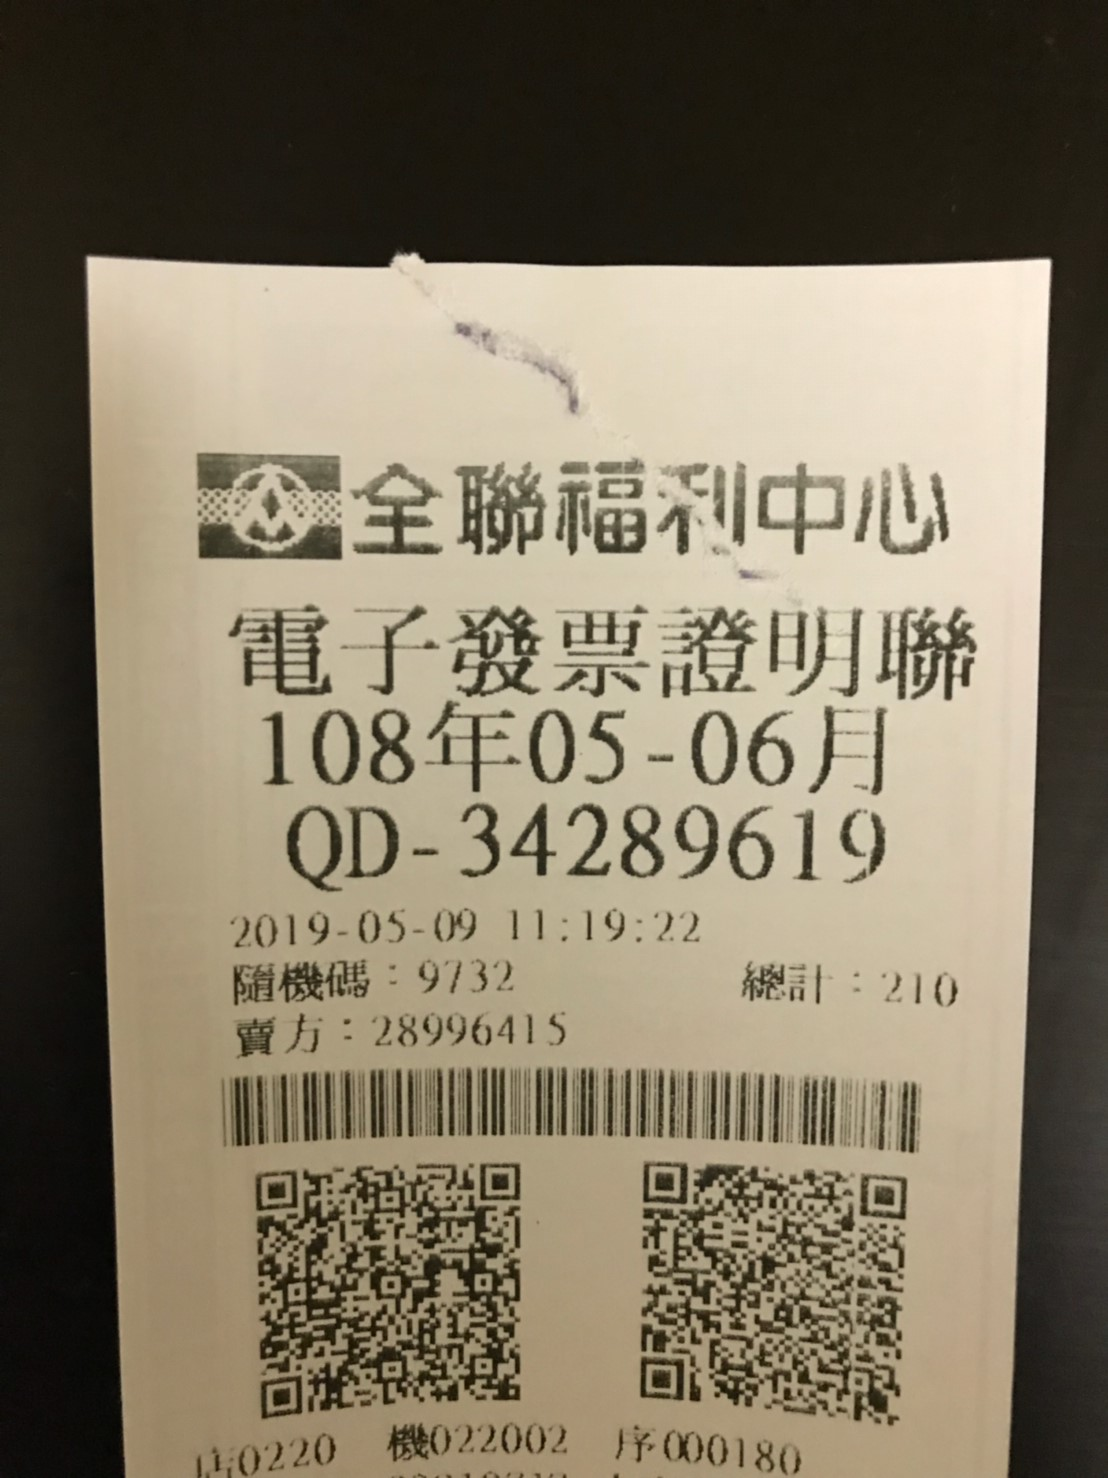Date_New: (260, 701, 893, 800)
Number_New: (459, 800, 893, 894)
